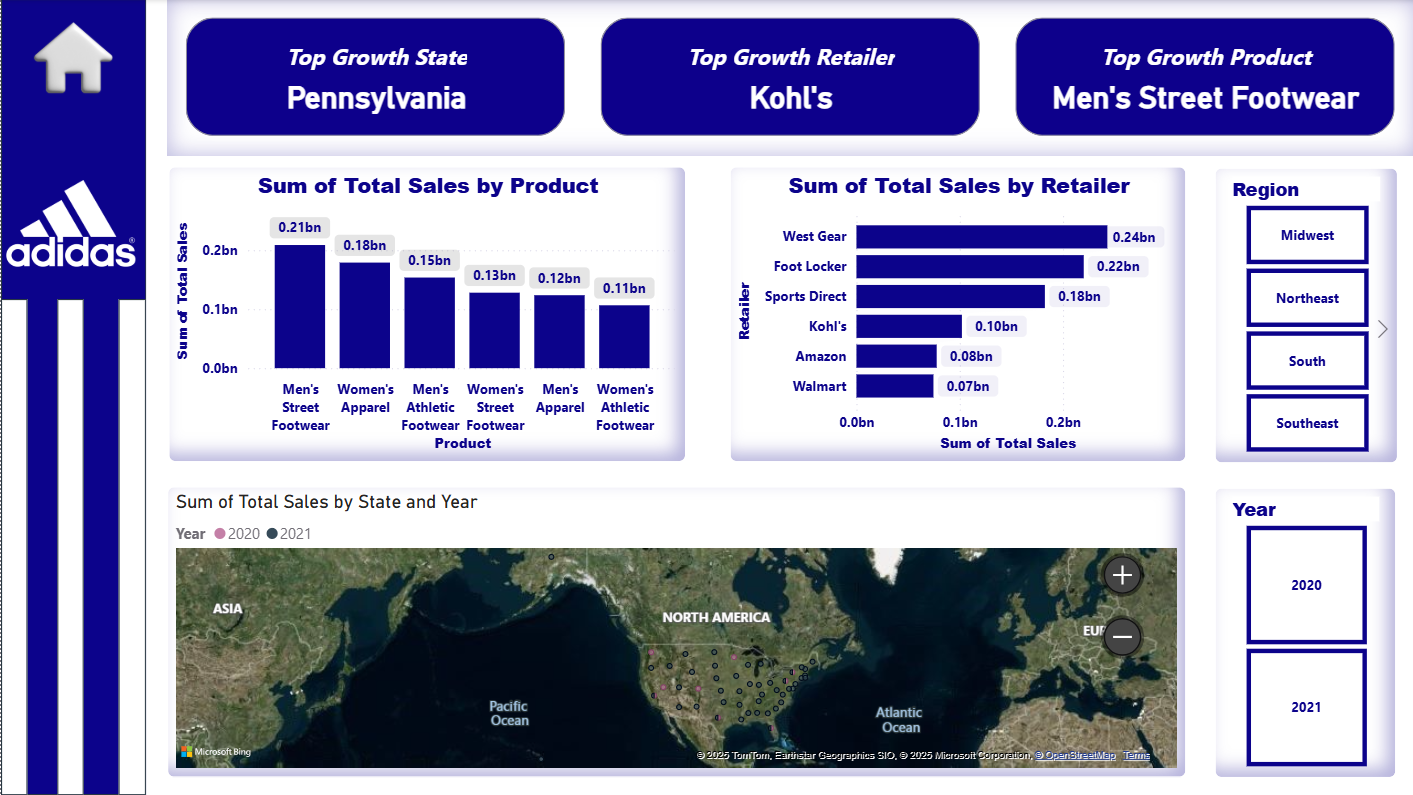

This screenshot's page, from the dashboard's own definition file:
{"tool":"powerbi","page":{"name":"Retailers, Regions & Product Performance","canvas":[1280,720],"ordinal":2},"visuals":[{"type":"barChart","fields":{"Y":["Sum(Data Sales Adidas.Total Sales)"],"Category":["DIM Product.Product"]},"box":[659.1,151.8,413.2,267],"z":0},{"type":"shape","box":[0,271.2,24,448.9],"z":0,"group":"g2"},{"type":"shape","box":[50.6,271.2,24,448.9],"z":1000,"group":"g2"},{"type":"map","fields":{"Category":["DIM State.State"],"Series":["Dim Date.Datetest.Variation.Date Hierarchy.Year"]},"box":[150.4,441.3,921.9,262.8],"z":1000},{"type":"clusteredColumnChart","fields":{"Y":["Sum(Data Sales Adidas.Total Sales)"],"Category":["DIM Region.Region"]},"box":[151.8,151.8,468,267],"z":2000},{"type":"shape","box":[106.6,271.2,24.9,448.9],"z":2000,"group":"g2"},{"type":"shape","box":[0,0,131.5,720.1],"z":3000},{"type":"group","id":"g1","title":"Group 2","box":[0,8.3,131.5,711.7],"z":4000},{"type":"cardVisual","fields":{"Data":["Data Sales Adidas.Top Growth Product","Data Sales Adidas.Top Growth Retailer","Data Sales Adidas.Top Growth Product1"]},"box":[150.4,0,1129.9,141.9],"z":5000},{"type":"group","id":"g2","title":"Group 1","box":[0,271.2,131.5,448.9],"z":5000,"group":"g1"},{"type":"image","box":[0,142.1,126.7,123.2],"z":6000,"group":"g1"},{"type":"slicer","fields":{"Values":["Dim Date.Datetest.Variation.Date Hierarchy.Year"]},"box":[1098,442,164.4,262.4],"z":6000},{"type":"image","box":[3.6,8.3,123.6,90.3],"z":7000,"group":"g1"},{"type":"slicer","fields":{"Values":["DIM Region.Region"]},"box":[1097.4,152.4,165.7,267.3],"z":7000},{"type":"actionButton","box":[0,0,100,40],"z":8000}]}

Visuals, with their boxes in screenshot pixels (x1, y1, x2, y2), scaled from the page's 1280x720 canvas onto the 1413x795 screenshot:
barChart - Sum(Data Sales Adidas.Total Sales) x DIM Product.Product: Rect(728, 168, 1184, 462)
shape: Rect(0, 299, 26, 794)
shape: Rect(56, 299, 82, 794)
map - DIM State.State x Dim Date.Datetest.Variation.Date Hierarchy.Year: Rect(166, 487, 1184, 777)
clusteredColumnChart - Sum(Data Sales Adidas.Total Sales) x DIM Region.Region: Rect(168, 168, 684, 462)
shape: Rect(118, 299, 145, 794)
shape: Rect(0, 0, 145, 794)
"Group 2" group: Rect(0, 9, 145, 794)
cardVisual - Data Sales Adidas.Top Growth Product x Data Sales Adidas.Top Growth Retailer: Rect(166, 0, 1412, 157)
"Group 1" group: Rect(0, 299, 145, 794)
image: Rect(0, 157, 140, 293)
slicer - Dim Date.Datetest.Variation.Date Hierarchy.Year: Rect(1212, 488, 1394, 778)
image: Rect(4, 9, 140, 109)
slicer - DIM Region.Region: Rect(1211, 168, 1394, 463)
actionButton: Rect(0, 0, 110, 44)
